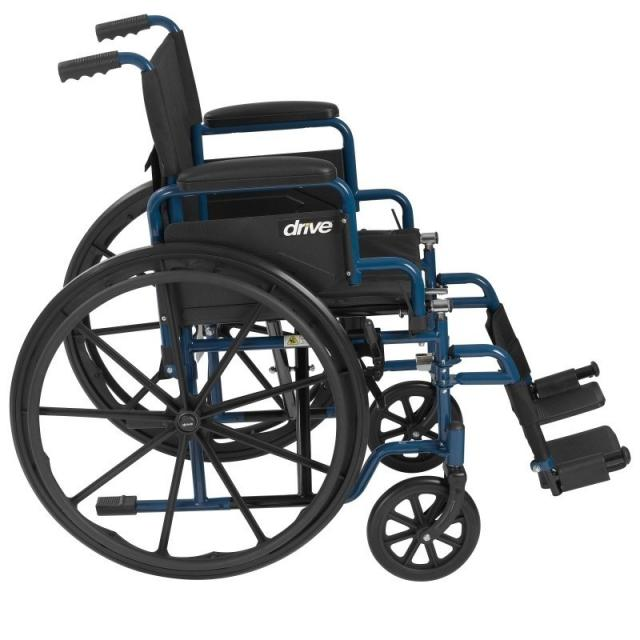wheelchair: (1, 0, 638, 593)
